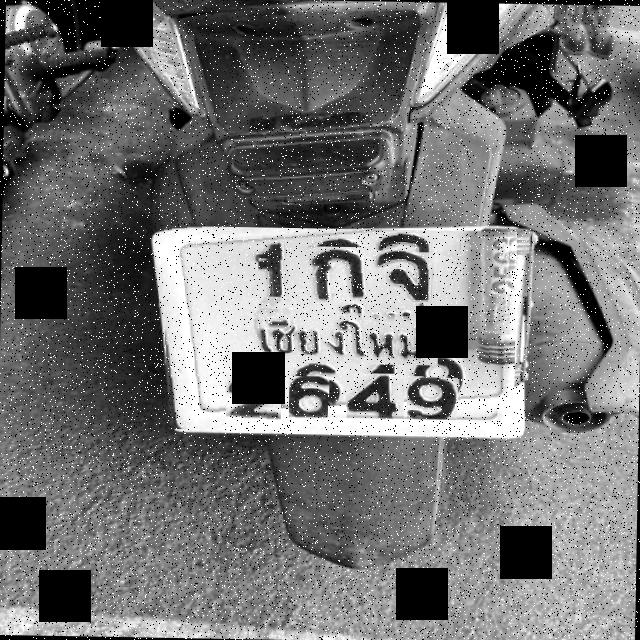letters: (223, 360, 281, 426), (306, 246, 368, 307), (345, 372, 404, 427), (370, 250, 432, 302), (406, 376, 458, 420), (288, 376, 329, 418), (257, 258, 286, 296)
license-plate: (164, 228, 517, 427)
province: (252, 307, 438, 365)
